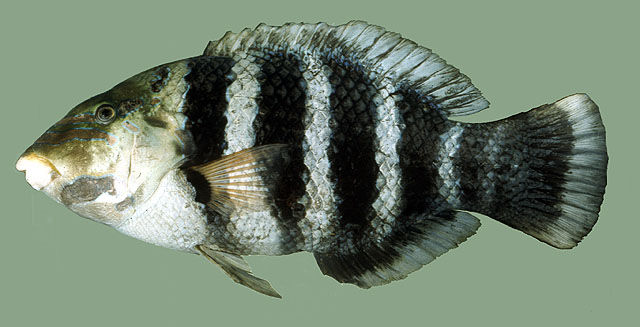fish: (15, 19, 610, 300)
